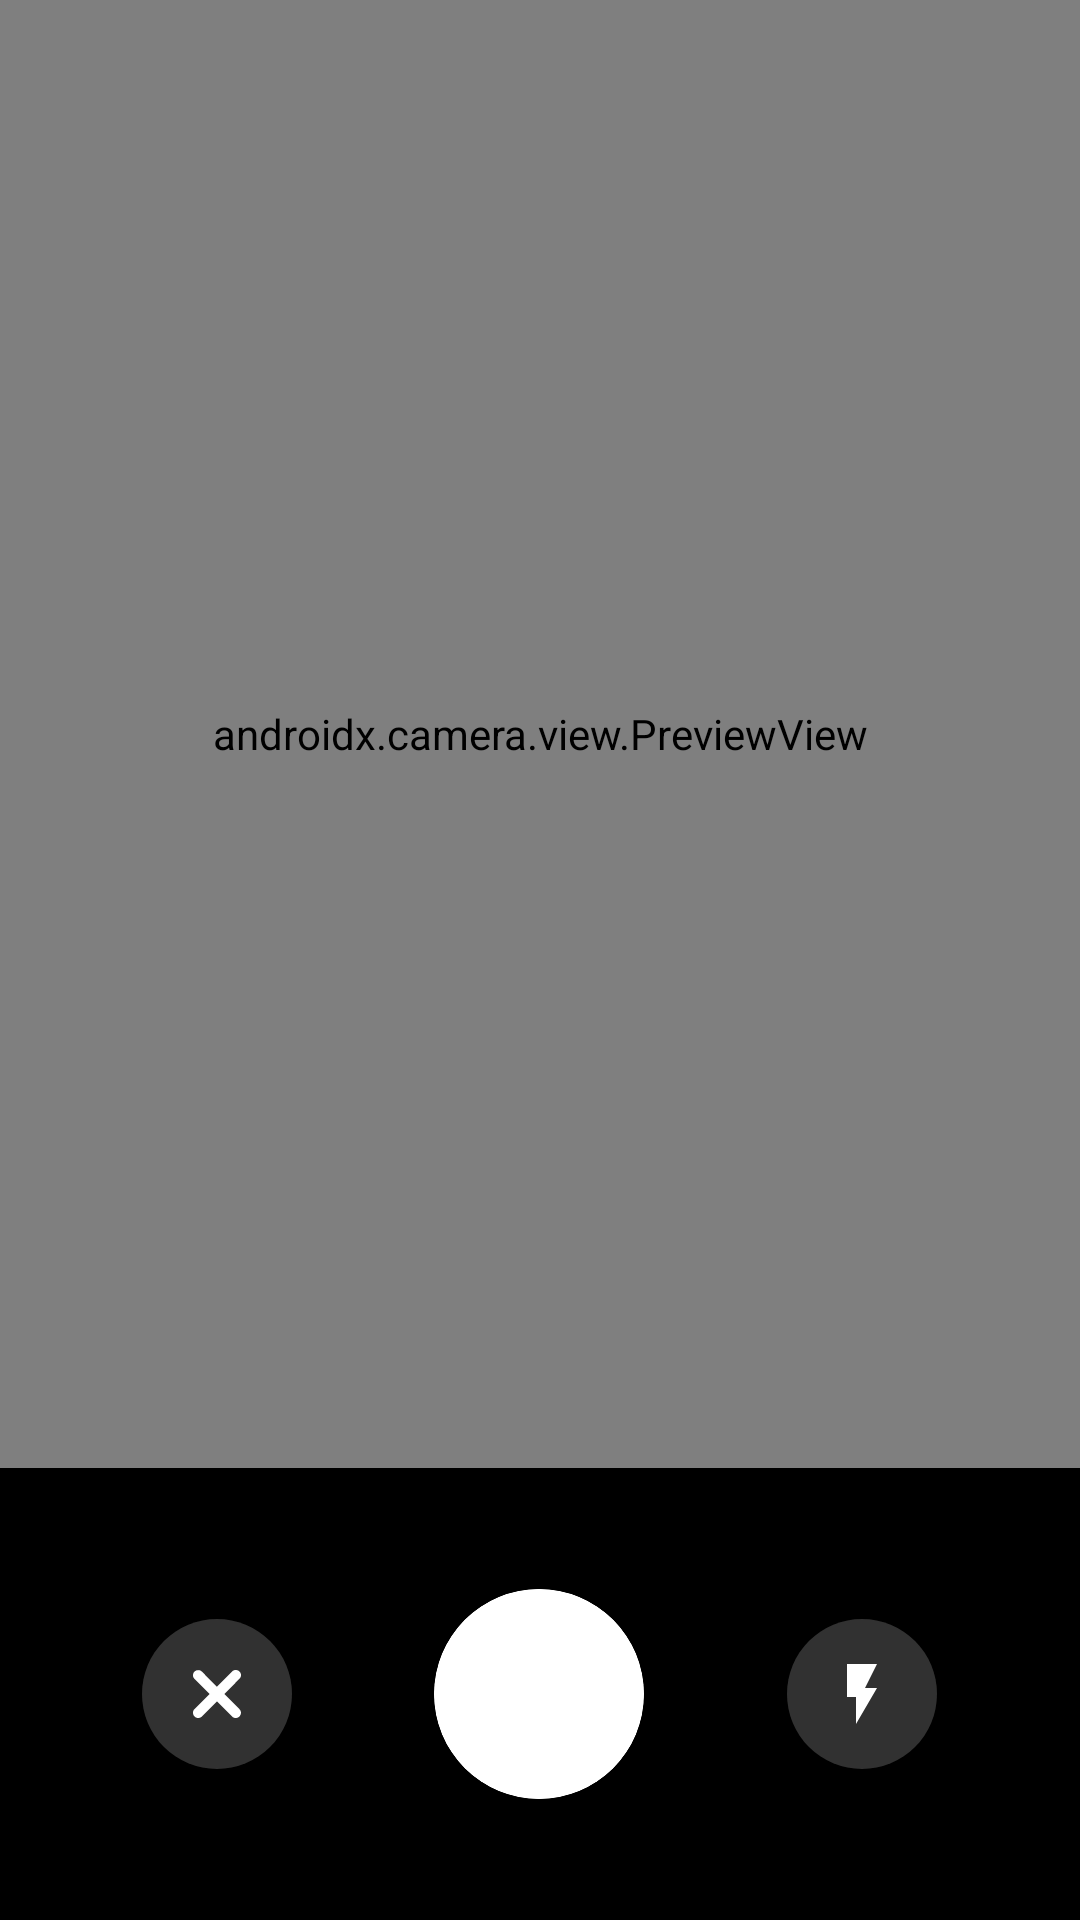

Icon click points for this 1080px x 1920px phone screenshot, format [x,y]:
close: [217,1694]
flash on: [862,1694]
